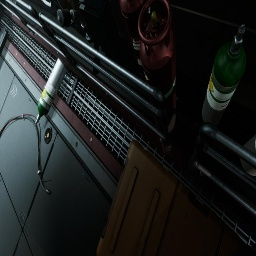0: (202, 24, 246, 126), (35, 58, 67, 125), (240, 134, 256, 176)
NitrogenTank ,: (138, 0, 176, 134), (119, 0, 152, 82)
